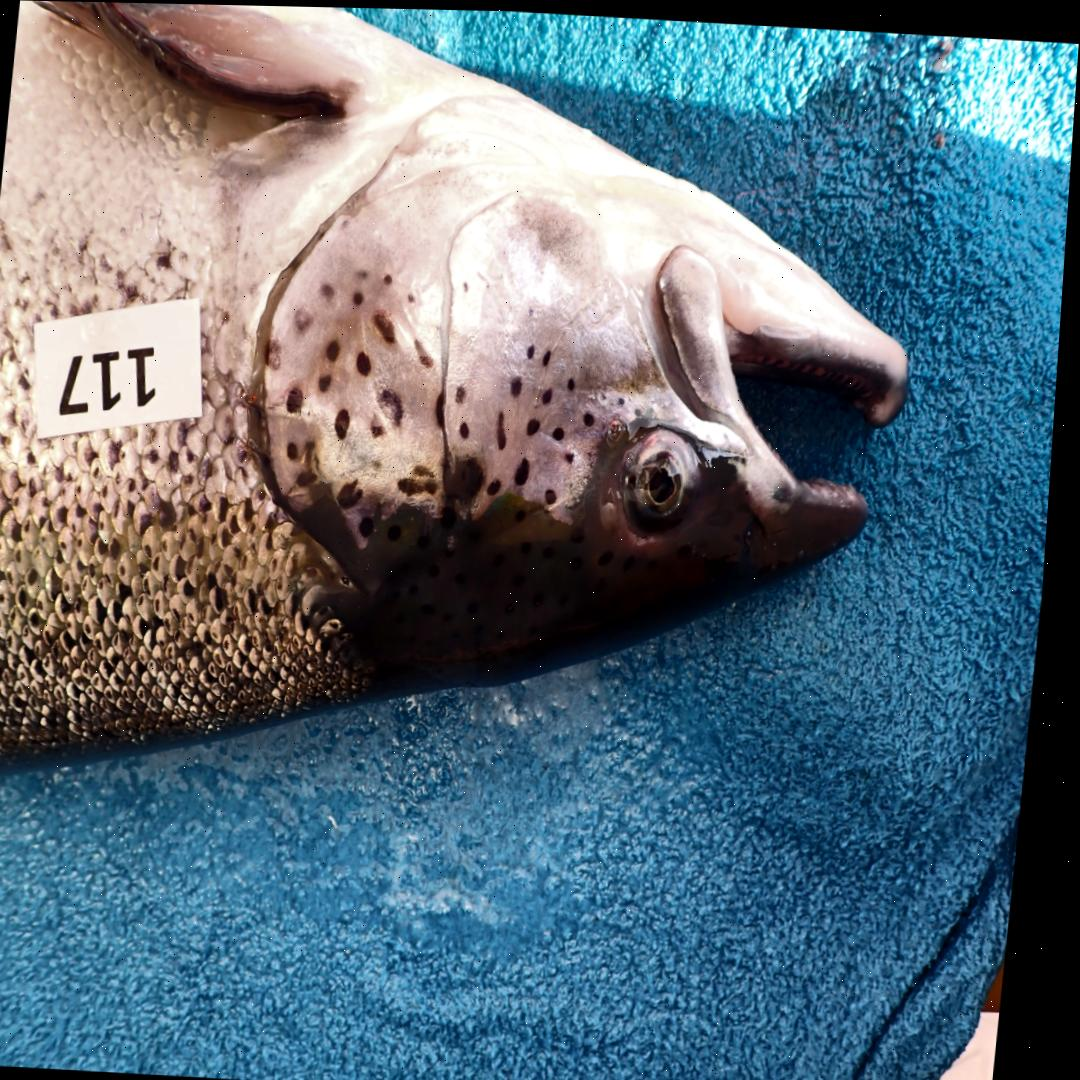spot: (459, 455, 490, 498), (302, 437, 324, 483), (383, 384, 408, 421), (342, 478, 369, 507), (374, 308, 399, 339), (402, 474, 442, 492), (267, 337, 287, 368), (417, 336, 436, 363), (519, 454, 536, 483), (339, 406, 355, 436), (291, 382, 307, 411), (297, 304, 316, 326), (374, 411, 390, 436), (360, 348, 376, 372), (446, 503, 462, 526), (501, 407, 510, 446), (440, 388, 449, 426), (365, 514, 380, 534), (330, 337, 344, 358), (322, 281, 338, 299), (418, 463, 441, 474), (321, 372, 335, 390), (291, 440, 304, 459), (514, 374, 526, 394), (463, 418, 475, 436), (530, 416, 544, 431), (493, 476, 507, 491), (353, 287, 367, 302), (546, 384, 556, 402), (459, 383, 469, 400), (358, 266, 372, 278), (551, 485, 562, 500), (556, 423, 569, 435), (569, 374, 579, 388), (547, 346, 555, 363), (588, 410, 598, 422), (385, 271, 394, 283), (530, 342, 537, 357), (570, 449, 579, 460), (411, 289, 418, 300), (465, 278, 471, 289), (622, 393, 629, 402), (639, 404, 645, 411)
